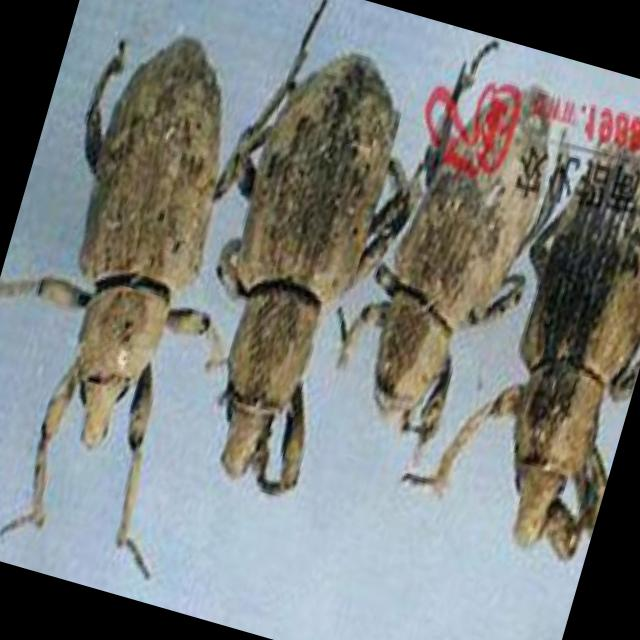rice-bug: (0, 4, 277, 541), (167, 33, 446, 514), (451, 91, 640, 573), (354, 55, 572, 457)
